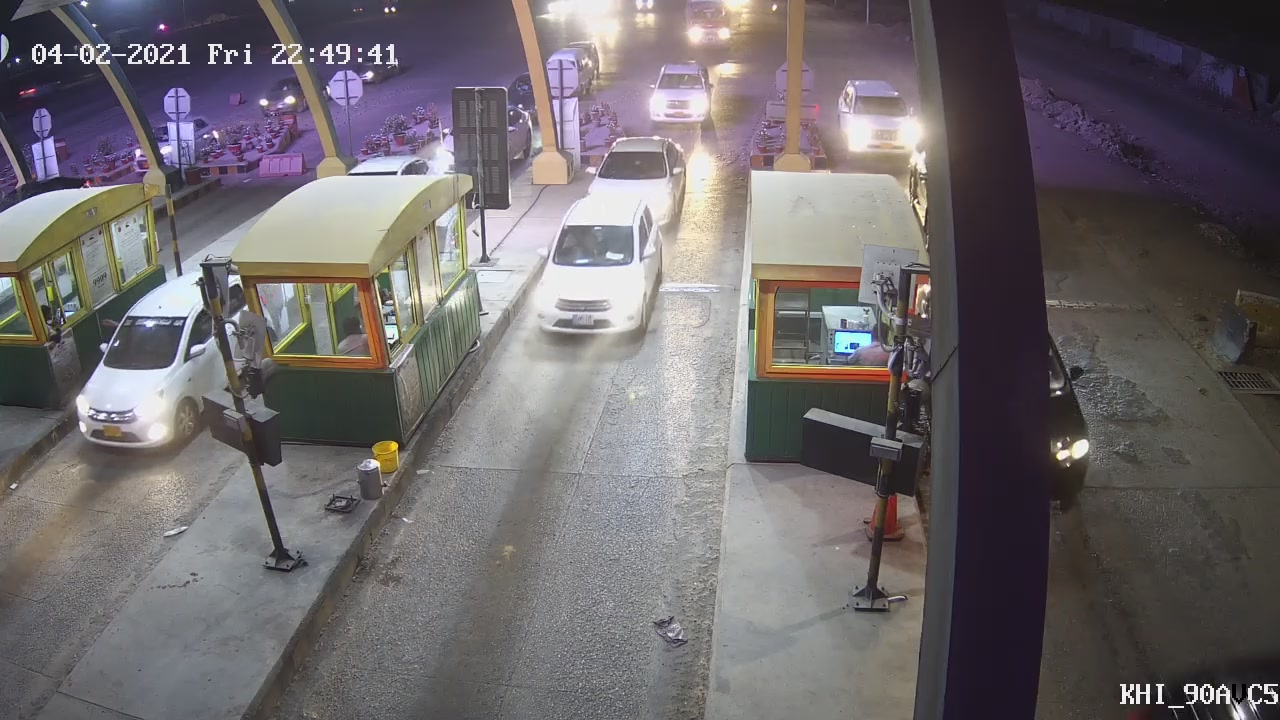F1: (531, 189, 664, 347)
